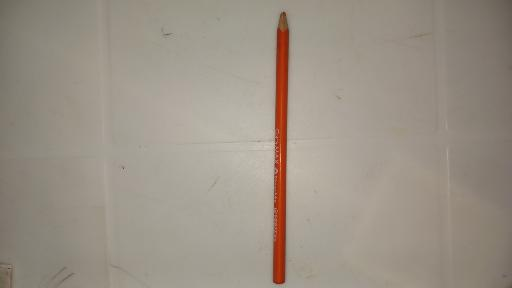Pencil: (275, 10, 288, 288)
